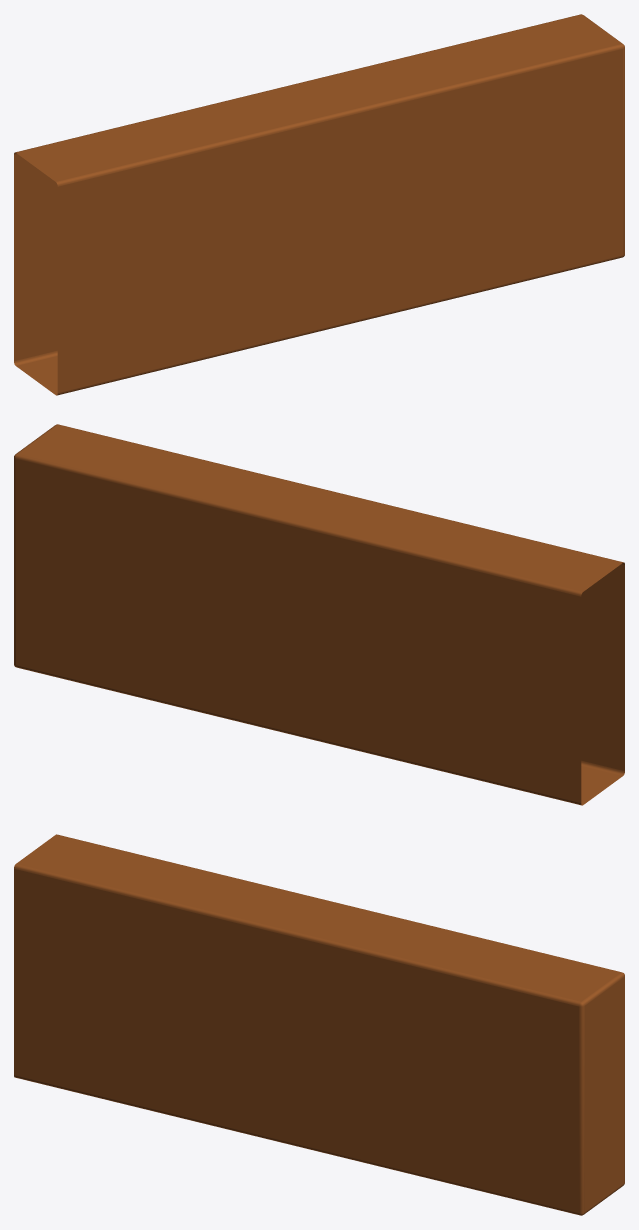
The model's file is frontbalken_end.FBX.
The picture shows the model from 3 angles, top to bottom: view 1: azimuth 30°, elevation 25°; view 2: azimuth 150°, elevation 25°; view 3: azimuth 330°, elevation 25°; orthographic projection.
Parts seen in each view (by area): view 1: frontbalken_end; view 2: frontbalken_end; view 3: frontbalken_end.
Part boxes in pixels (left/top/right/bottom): frontbalken_end: left=14, top=14, right=624, bottom=395; frontbalken_end: left=14, top=424, right=624, bottom=805; frontbalken_end: left=14, top=834, right=624, bottom=1215.
Bounding box in the file's own units: 8.65 × 3.1 × 1.15.
